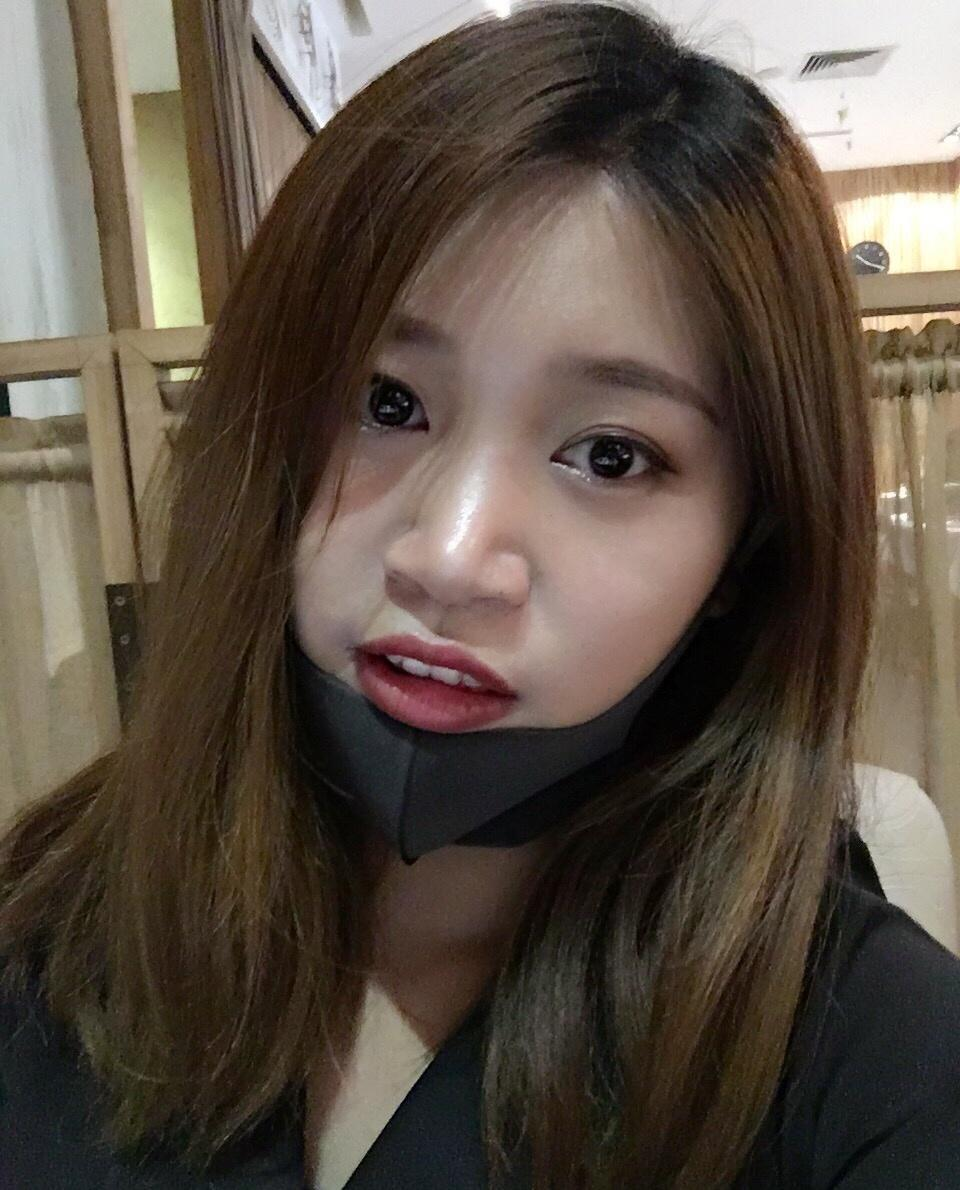WRONG: (238, 334, 743, 839)
